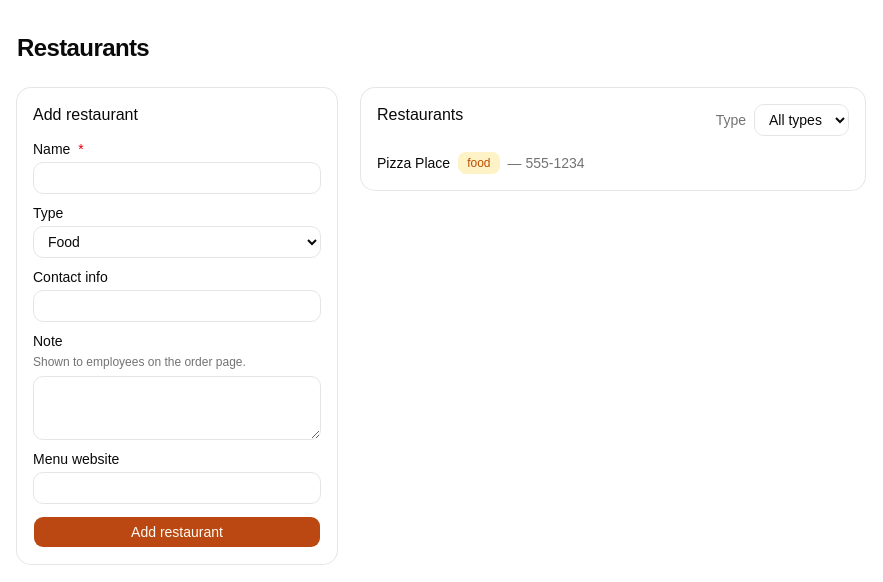
Scenario: Restaurants › adds a restaurant via the create form without a page reload
Expected: the link "Pizza Place" is shown, [377,153,450,173]
Type "Sushi Spot" into the field labelled "Name" at (177, 178), box [33,162,321,194]
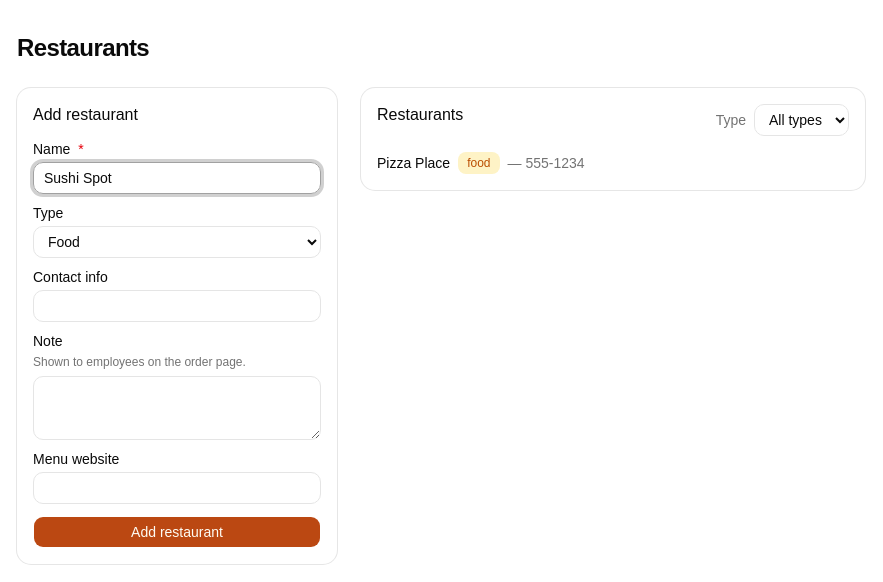
Click the button "Add restaurant" at (177, 532), box [33,516,321,548]
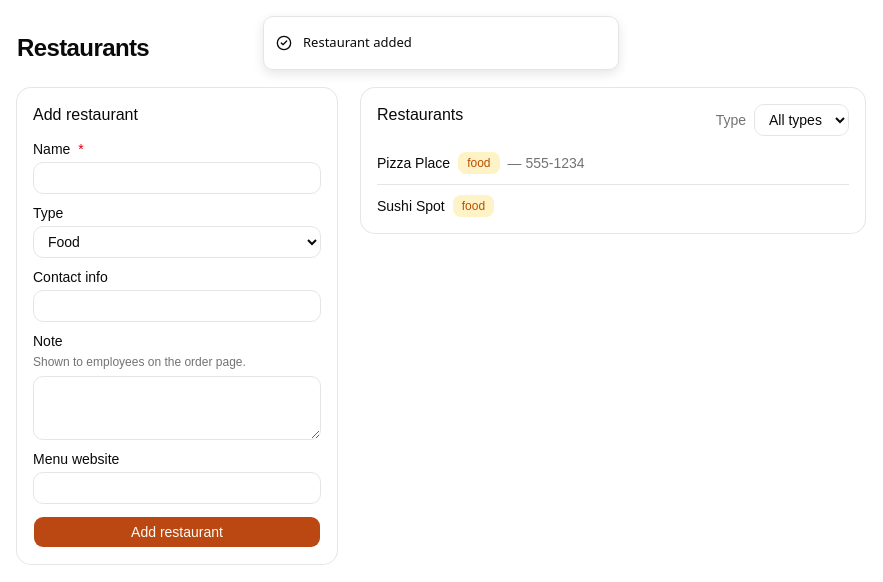
Expected: the link "Sushi Spot" is shown, [377,196,445,216]
Expected: the text "Restaurant added" is shown, [303,33,412,52]
